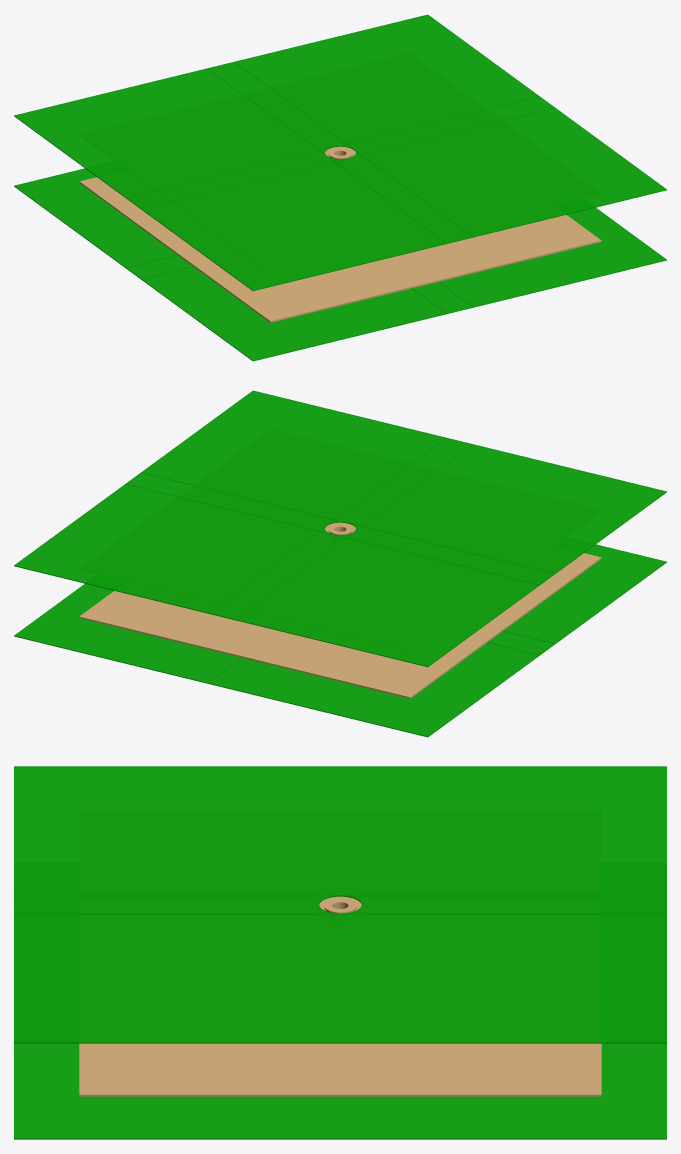
File: board.glb
3 views of the same model, one above another, from view 1: azimuth 30°, elevation 25°; view 2: azimuth 150°, elevation 25°; view 3: azimuth 270°, elevation 25° (orthographic). The views are drawn at different scales.
Visible parts, largest first — view 1: Substrate_Layer_0_Z0, Substrate_Layer_1_Z0, Unified_Net_2_Island_0; view 2: Substrate_Layer_0_Z0, Substrate_Layer_1_Z0, Unified_Net_2_Island_0; view 3: Substrate_Layer_0_Z0, Substrate_Layer_1_Z0, Unified_Net_2_Island_0.
Part boxes in pixels (bbox=[...]): Substrate_Layer_0_Z0: bbox=[14, 14, 666, 291]; Substrate_Layer_1_Z0: bbox=[14, 168, 666, 361]; Unified_Net_2_Island_0: bbox=[79, 177, 601, 322]; Substrate_Layer_0_Z0: bbox=[14, 390, 666, 667]; Substrate_Layer_1_Z0: bbox=[14, 544, 666, 737]; Unified_Net_2_Island_0: bbox=[79, 553, 601, 698]; Substrate_Layer_0_Z0: bbox=[14, 766, 666, 1043]; Substrate_Layer_1_Z0: bbox=[14, 1043, 666, 1139]; Unified_Net_2_Island_0: bbox=[79, 1043, 601, 1096].
Size of the model in its own units: 0.01 by 0.00164 by 0.01.
